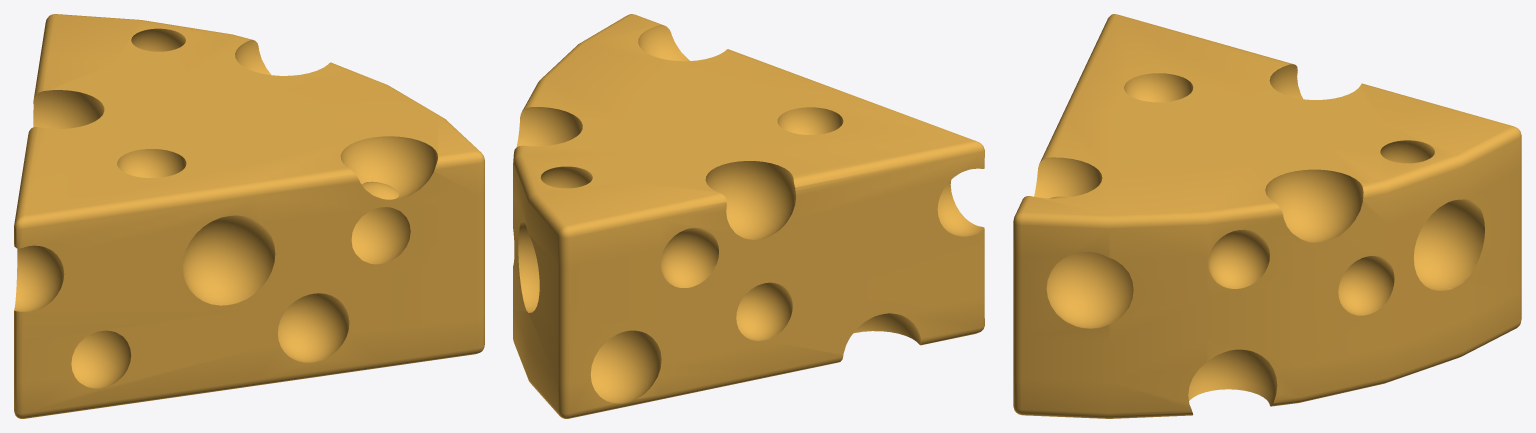
The model's file is asset.glb.
The picture shows the model from 3 angles, left to right: view 1: azimuth 30°, elevation 25°; view 2: azimuth 150°, elevation 25°; view 3: azimuth 270°, elevation 25°; orthographic projection. The views are drawn at different scales.
Visible parts, largest first — view 1: Circle; view 2: Circle; view 3: Circle.
Boxes of the visible parts, bbox=[...] form: Circle: bbox=[14, 14, 484, 418]; Circle: bbox=[513, 14, 984, 418]; Circle: bbox=[1013, 14, 1521, 418].
Bounding box in the file's own units: 0.992 × 0.4456 × 1.01.
